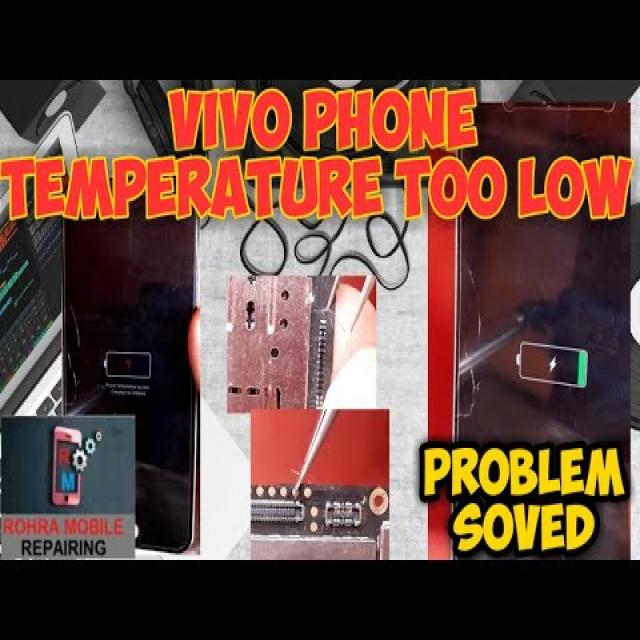mobile phone: (427, 96, 636, 558), (59, 167, 201, 554)
